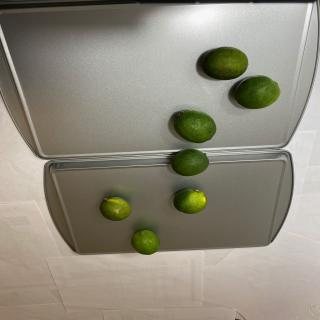Lemon: (233, 75, 280, 109), (201, 46, 248, 80), (174, 110, 216, 144), (171, 148, 209, 176), (173, 188, 207, 214), (99, 196, 132, 222), (131, 230, 160, 255)
